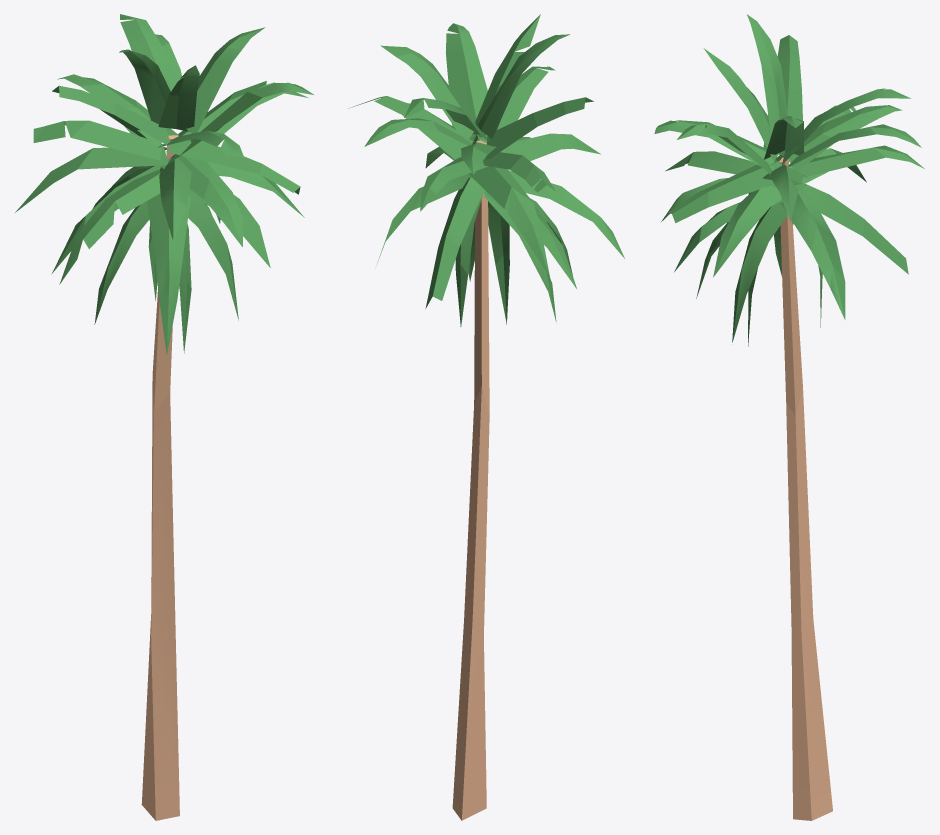
Rendered from tree_palm_coco_D_LOD1.fbx.
3 views of the same model, side by side, from view 1: azimuth 30°, elevation 25°; view 2: azimuth 150°, elevation 25°; view 3: azimuth 270°, elevation 25° (orthographic). The views are drawn at different scales.
Visible parts, largest first — view 1: trunk_coco_D, leaf_cocotree_D_31, leaf_cocotree_D_22, leaf_cocotree_D_16, leaf_cocotree_D_24, leaf_cocotree_D_17, leaf_cocotree_D_6, leaf_cocotree_D_33, leaf_cocotree_D_32, leaf_cocotree_D_23, leaf_cocotree_D_3, leaf_cocotree_D_5 (+11 smaller); view 2: trunk_coco_D, leaf_cocotree_D_7, leaf_cocotree_D_17, leaf_cocotree_D_34, leaf_cocotree_D_6, leaf_cocotree_D_1, leaf_cocotree_D_32, leaf_cocotree_D_30, leaf_cocotree_D_22, leaf_cocotree_D_11, leaf_cocotree_D_23, leaf_cocotree_D_8 (+10 smaller); view 3: trunk_coco_D, leaf_cocotree_D_20, leaf_cocotree_D_33, leaf_cocotree_D_28, leaf_cocotree_D_25, leaf_cocotree_D_34, leaf_cocotree_D_1, leaf_cocotree_D_12, leaf_cocotree_D_13, leaf_cocotree_D_32, leaf_cocotree_D_3, leaf_cocotree_D_23 (+7 smaller).
Boxes of the visible parts, x1,y1,x2,y2 form: trunk_coco_D: (141,135,179,820); leaf_cocotree_D_31: (147,193,190,355); leaf_cocotree_D_22: (59,169,160,284); leaf_cocotree_D_16: (33,120,162,160); leaf_cocotree_D_24: (160,155,243,246); leaf_cocotree_D_17: (15,146,167,212); leaf_cocotree_D_6: (186,27,265,133); leaf_cocotree_D_33: (166,139,300,194); leaf_cocotree_D_32: (52,85,172,148); leaf_cocotree_D_23: (159,155,191,240); leaf_cocotree_D_3: (158,65,199,131); leaf_cocotree_D_5: (120,14,177,130); trunk_coco_D: (452,140,489,820); leaf_cocotree_D_7: (445,23,505,152); leaf_cocotree_D_17: (468,166,549,276); leaf_cocotree_D_34: (425,177,485,308); leaf_cocotree_D_6: (380,45,475,140); leaf_cocotree_D_1: (478,34,570,138); leaf_cocotree_D_32: (486,97,593,159); leaf_cocotree_D_30: (488,201,509,324); leaf_cocotree_D_22: (508,170,624,258); leaf_cocotree_D_11: (348,96,474,159); leaf_cocotree_D_23: (504,133,600,169); leaf_cocotree_D_8: (472,66,555,138); trunk_coco_D: (779,157,832,820); leaf_cocotree_D_20: (780,184,845,319); leaf_cocotree_D_33: (668,160,790,223); leaf_cocotree_D_28: (732,203,787,342); leaf_cocotree_D_25: (713,185,781,277); leaf_cocotree_D_34: (801,183,908,274); leaf_cocotree_D_1: (747,14,788,135); leaf_cocotree_D_12: (778,105,902,170); leaf_cocotree_D_13: (797,145,924,177); leaf_cocotree_D_32: (763,35,802,149); leaf_cocotree_D_3: (703,48,778,161); leaf_cocotree_D_23: (665,151,756,174).
Size of the model in its own units: 434 by 1224 by 393.
